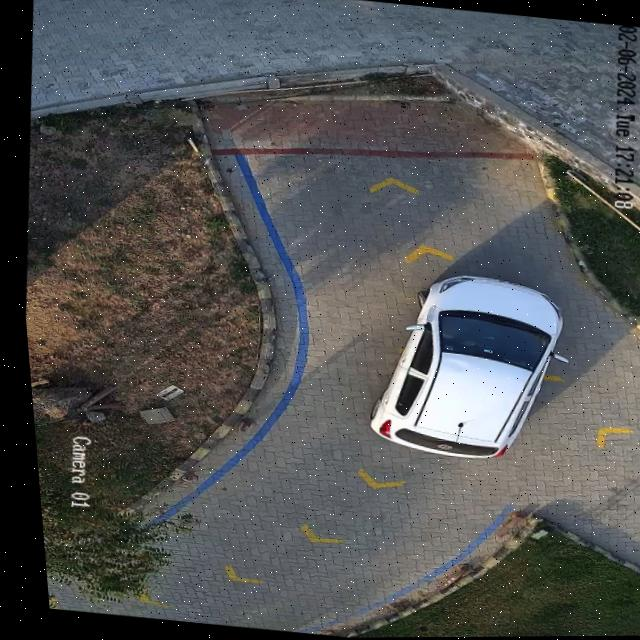car: (356, 274, 562, 460)
